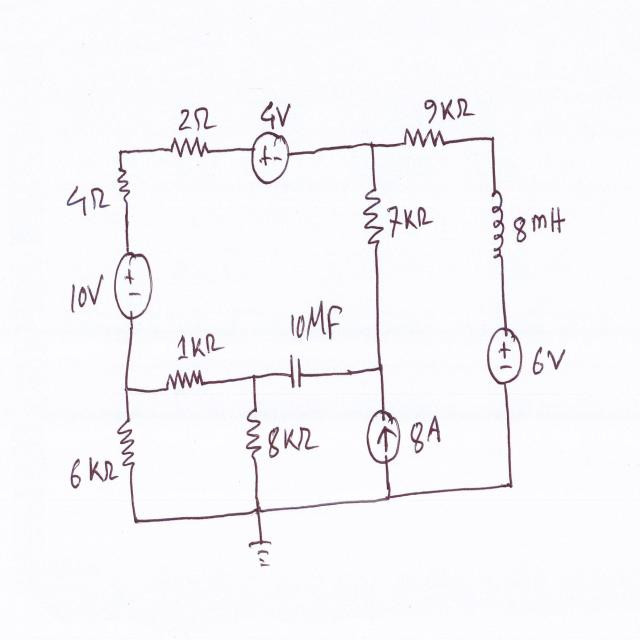capacitor: (282, 339, 308, 388)
current_source: (363, 406, 406, 466)
ground: (246, 534, 279, 570)
inductor: (488, 178, 508, 275)
resistor: (395, 120, 451, 156), (362, 179, 386, 256), (168, 130, 216, 165), (117, 416, 140, 483), (242, 404, 266, 468), (161, 366, 206, 398), (113, 161, 132, 207)
voltage_source: (112, 242, 156, 325), (478, 320, 527, 392), (244, 128, 295, 186)
